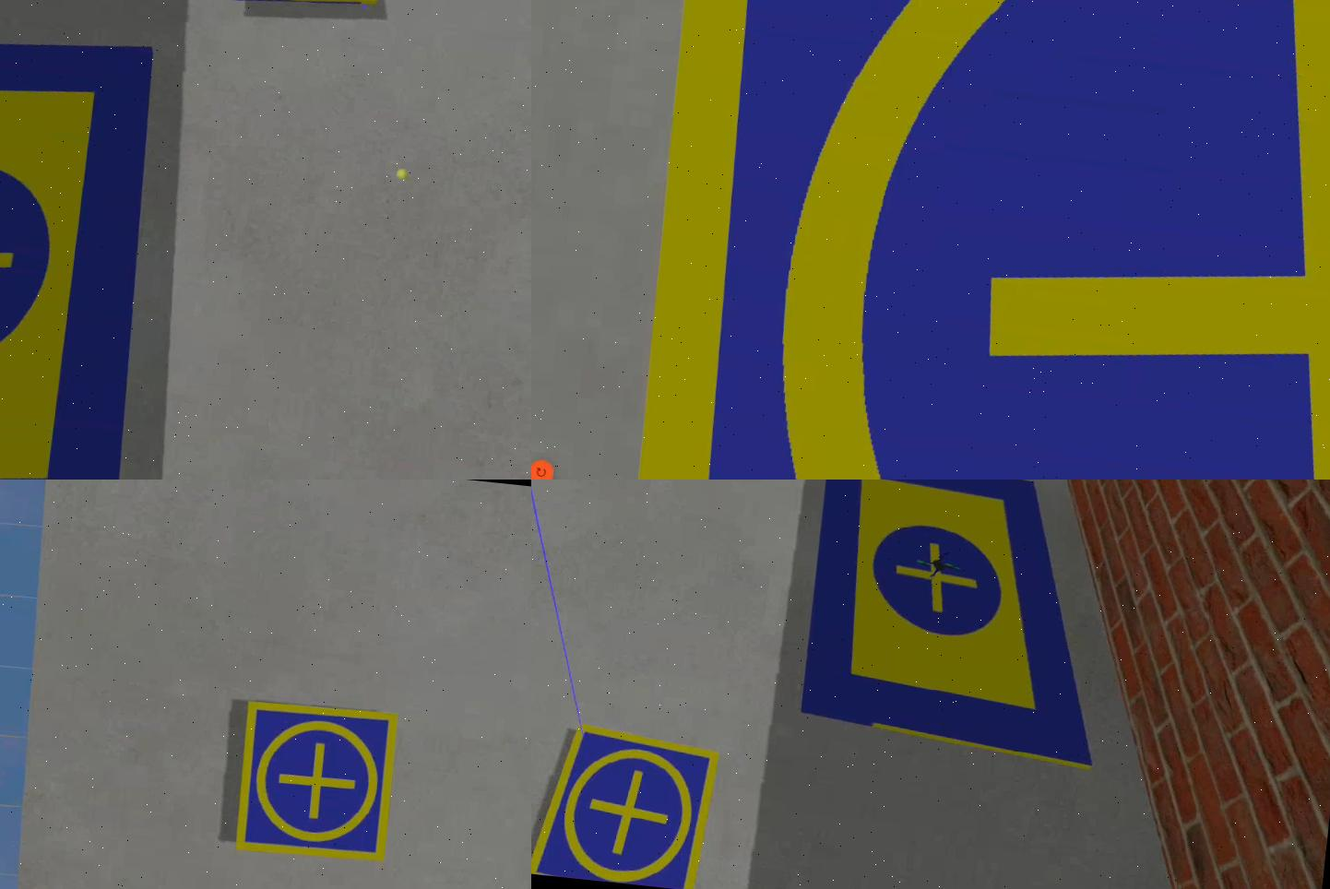large_base: (795, 480, 1127, 773), (1, 1, 175, 480)
small_base: (631, 1, 1330, 480), (532, 724, 721, 889), (232, 699, 405, 870)
